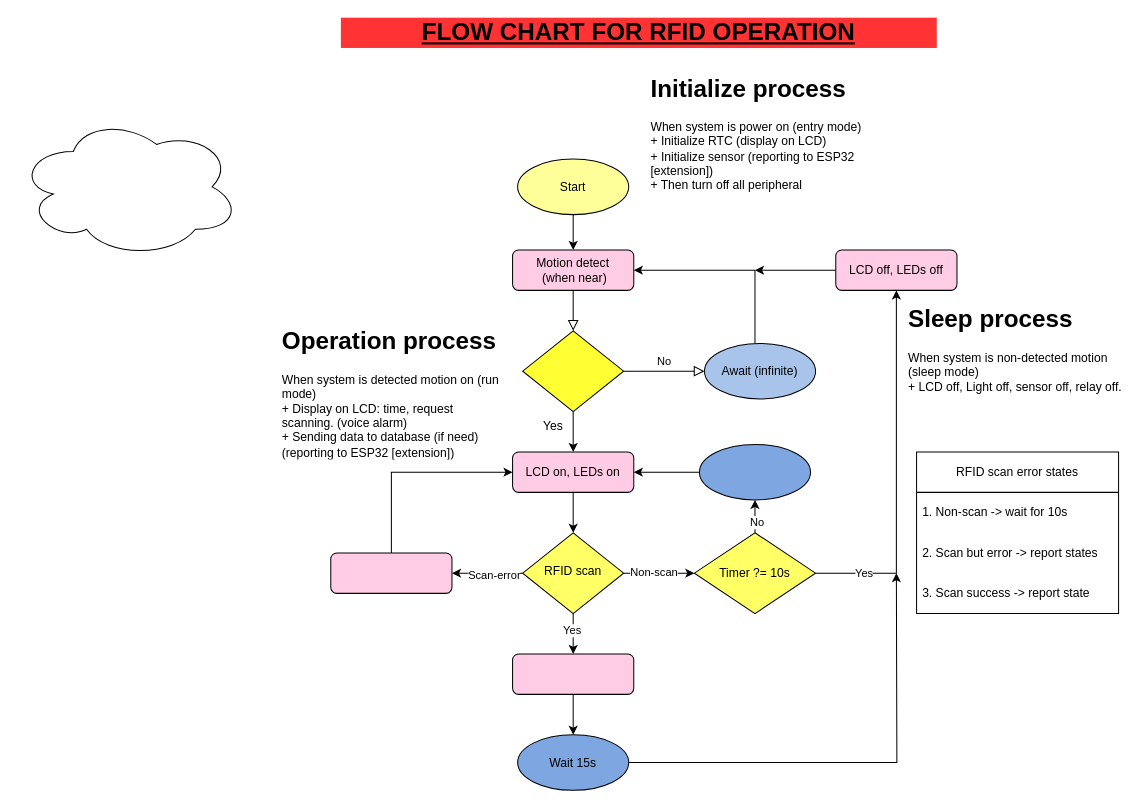
Image size: 1146x808. Some labels were removed from this diagram. The shapes that lost their labels are listed below. From the top down, each one's box as (x1, y1, x2, y2) in pixels, then its label:
(17, 115, 240, 258): Considering for using as an IOT device if continue
(522, 330, 624, 412): Exist?
(698, 443, 811, 500): Wait 1s
(330, 552, 452, 593): Buzzer on twice, LCD report, LEDR changes
(512, 653, 634, 694): Display card ID, LEDs change, buzzer on once, relay on
